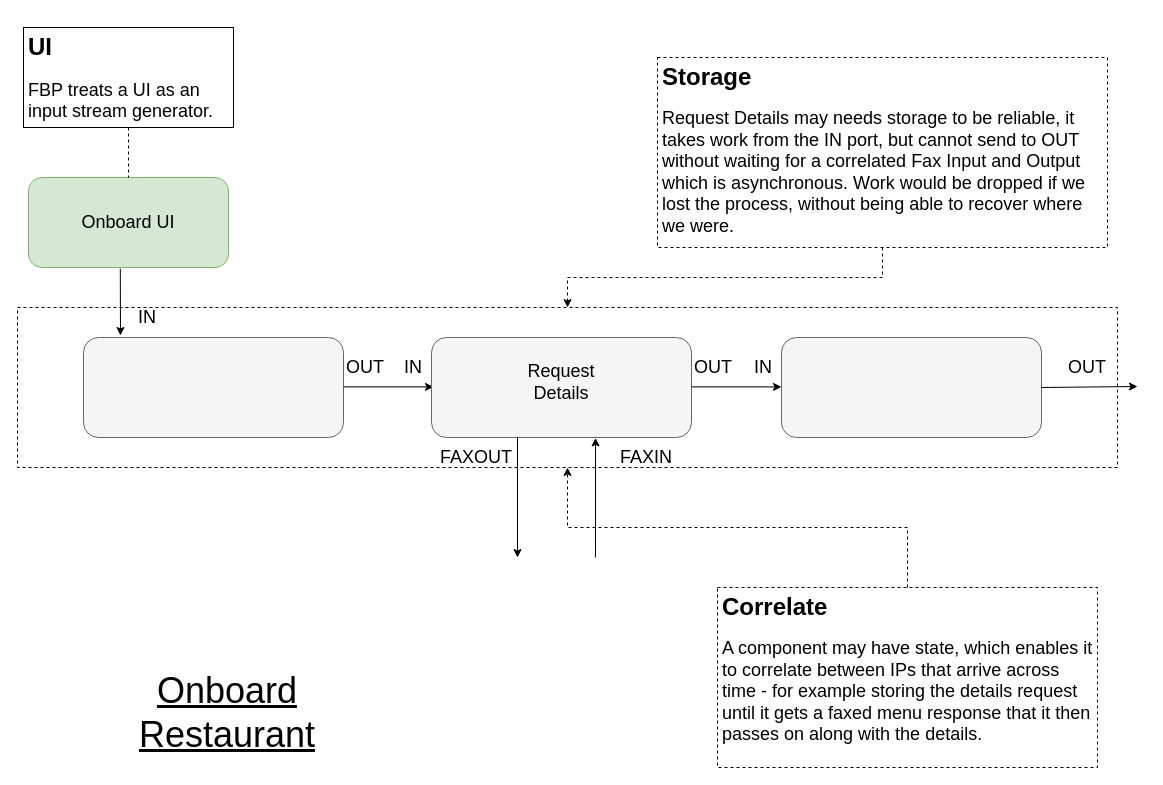
Image size: 1163x785. Some labels were removed from this diagram. Each missing label, with the centre of its shape:
Make Catalogue: the point at 911,387
Qualify Restaurant: the point at 213,387
